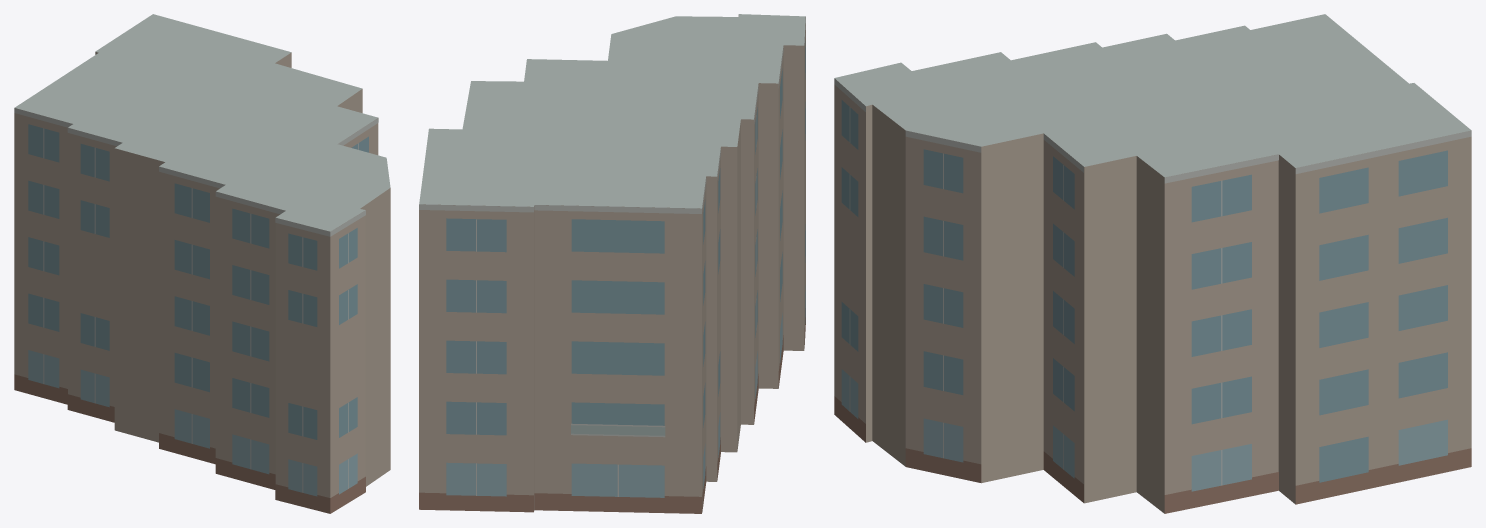
Rendered from survey-upis-32682439.glb.
The picture shows the model from 3 angles, left to right: view 1: azimuth 30°, elevation 25°; view 2: azimuth 150°, elevation 25°; view 3: azimuth 270°, elevation 25°; orthographic projection. The views are drawn at different scales.
Parts seen in each view (by area): view 1: survey-upis-32682439.tmp; view 2: survey-upis-32682439.tmp; view 3: survey-upis-32682439.tmp.
Part boxes in pixels (bbox=[...]): survey-upis-32682439.tmp: bbox=[14, 14, 390, 513]; survey-upis-32682439.tmp: bbox=[419, 14, 805, 513]; survey-upis-32682439.tmp: bbox=[834, 14, 1471, 513].
Bounding box in the file's own units: 13.86 × 13.3 × 22.84.
